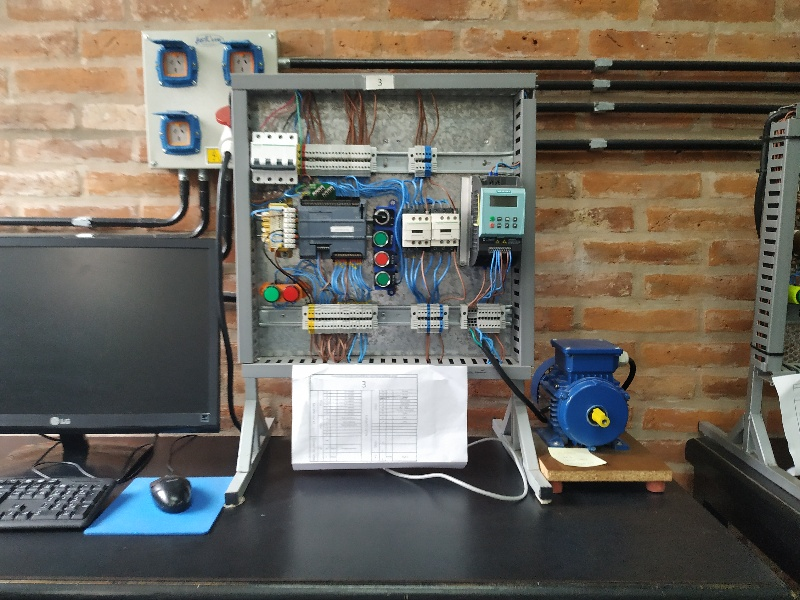Tablero 3: (243, 84, 527, 371)
